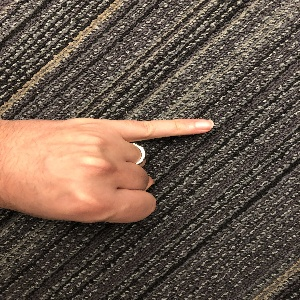hand: (1, 120, 213, 222)
